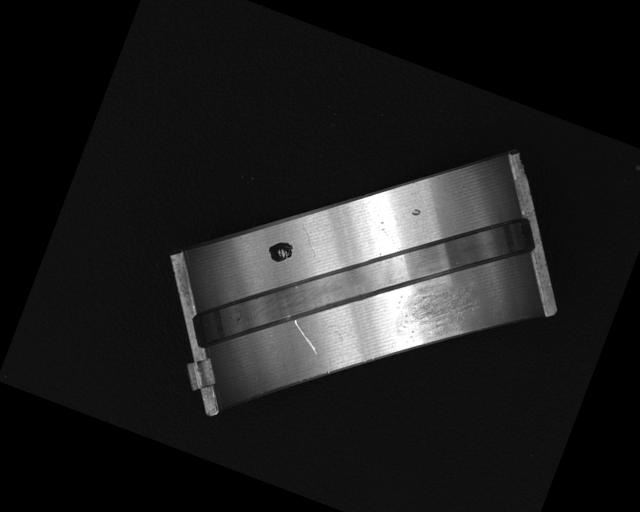blot: (264, 235, 297, 269)
bruise: (409, 206, 422, 220)
gap: (184, 124, 542, 445)
nick: (286, 318, 327, 354), (293, 224, 326, 260)
scratch: (386, 268, 485, 365)
